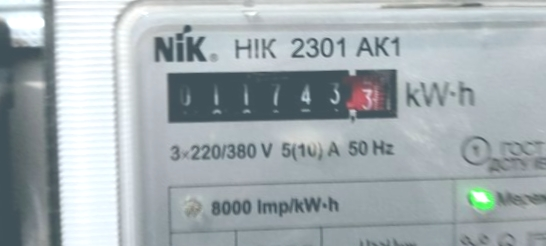0: (177, 79, 191, 107)
1: (238, 77, 250, 105), (209, 78, 219, 105)
3: (327, 77, 341, 104), (358, 85, 373, 110)
4: (297, 78, 311, 105)
7: (267, 76, 282, 104)
screen: (154, 53, 409, 135)
